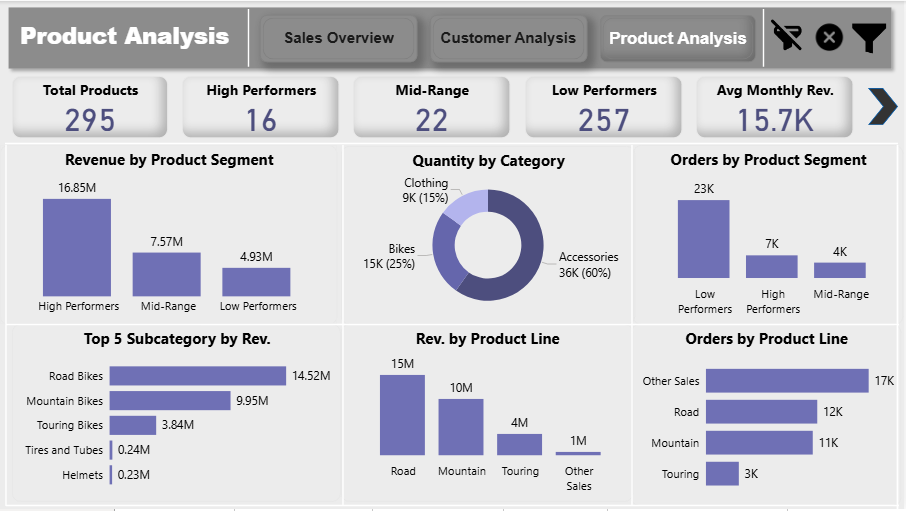

This screenshot's page, from the dashboard's own definition file:
{"tool":"powerbi","page":{"name":"Product Analysis","canvas":[1280,720],"ordinal":2},"visuals":[{"type":"shape","box":[2.8,0,1269.9,104.9],"z":0,"group":"g1"},{"type":"card","title":"Total Products","fields":{"Values":["All_Measures.Total Products"]},"box":[17,106.3,221.1,87.9],"z":0},{"type":"textbox","box":[18.4,21.3,316.1,66.6],"z":1000,"group":"g1"},{"type":"card","title":"High Performers","fields":{"Values":["All_Measures.High Performer Count"]},"box":[258.3,106.3,222.5,87.9],"z":1000},{"type":"actionButton","box":[609.4,19.8,222.5,66.6],"z":2000,"group":"g1"},{"type":"card","title":"Mid-Range","fields":{"Values":["All_Measures.Mid Range Count"]},"box":[501,106.3,222.5,87.9],"z":2000},{"type":"actionButton","box":[850.4,19.8,221.1,66.6],"z":3000,"group":"g1"},{"type":"card","title":"Low Performers","fields":{"Values":["All_Measures.Low Performers Count"]},"box":[743.7,106.3,222.5,87.9],"z":3000},{"type":"actionButton","box":[368.5,19.8,222.5,66.6],"z":4000,"group":"g1"},{"type":"card","title":"Avg Monthly Rev.","fields":{"Values":["All_Measures.Avg Monthly Revenue"]},"box":[986.5,106.3,222.5,87.9],"z":4000},{"type":"shape","box":[334.5,11.3,35.4,82.2],"z":5000,"group":"g1"},{"type":"columnChart","title":"Revenue by Product Segment","fields":{"Y":["All_Measures.Total Sales"],"Category":["Gold dim_products.product segment"]},"box":[0,203.9,477.8,254.5],"z":5000},{"type":"image","box":[1074.3,17,79.4,62.4],"z":6000,"group":"g1"},{"type":"donutChart","title":"Quantity by Category","fields":{"Category":["Gold dim_products.category"],"Y":["All_Measures.Total Quantity"]},"box":[483.7,205.4,416.7,253],"z":6000},{"type":"image","box":[1201.9,24.1,59.5,58.1],"z":7000,"group":"g1"},{"type":"clusteredBarChart","title":"Top 5 Subcategory by Rev.","fields":{"Category":["Gold dim_products.subcategory"],"Y":["All_Measures.Total Sales"]},"box":[17,457.8,466.3,252.3],"z":7000},{"type":"shape","box":[1074.3,11.3,15.6,82.2],"z":8000,"group":"g1"},{"type":"columnChart","title":"Orders by Product Segment","fields":{"Category":["Gold dim_products.product segment"],"Y":["All_Measures.Total Orders"]},"box":[897.5,203.9,382.5,254.5],"z":8000},{"type":"image","box":[1149.4,21.3,52.4,60.9],"z":9000,"group":"g1"},{"type":"clusteredColumnChart","title":"Rev. by Product Line","fields":{"Category":["Gold dim_products.product_line"],"Y":["All_Measures.Total Sales"]},"box":[483,458,414,252],"z":9000},{"type":"barChart","title":"Orders by Product Line","fields":{"Y":["All_Measures.Total Orders"],"Category":["Gold dim_products.product_line"]},"box":[894.3,457.8,382.7,258],"z":10000},{"type":"shape","box":[1264.3,204.1,15.6,515.9],"z":11000},{"type":"shape","box":[1264.4,204.1,15.6,515.9],"z":12000},{"type":"shape","box":[0,204.1,17,511.7],"z":13000},{"type":"shape","box":[477.6,204.1,17,511.7],"z":14000},{"type":"shape","box":[891.5,204.1,8.5,511.7],"z":15000},{"type":"group","id":"g1","title":"Group 1","box":[2.8,0,1269.9,104.9],"z":19000},{"type":"shape","box":[7.1,197,1265.7,9.9],"z":20000},{"type":"shape","box":[8.5,453.5,1265.7,9.9],"z":21000},{"type":"shape","box":[8.5,710.1,1265.7,9.9],"z":22000},{"type":"shape","box":[1230.2,123.3,42.5,52.4],"z":23000}]}

Visuals, with their boxes in screenshot pixels (x1, y1, x2, y2), scaled from the page's 1280x720 canvas onto the 906x511 screenshot:
shape: (left=2, top=0, right=901, bottom=74)
"Total Products" card: (left=12, top=75, right=169, bottom=138)
textbox: (left=13, top=15, right=237, bottom=62)
"High Performers" card: (left=183, top=75, right=340, bottom=138)
actionButton: (left=431, top=14, right=589, bottom=61)
"Mid-Range" card: (left=355, top=75, right=512, bottom=138)
actionButton: (left=602, top=14, right=758, bottom=61)
"Low Performers" card: (left=526, top=75, right=684, bottom=138)
actionButton: (left=261, top=14, right=418, bottom=61)
"Avg Monthly Rev." card: (left=698, top=75, right=856, bottom=138)
shape: (left=237, top=8, right=262, bottom=66)
"Revenue by Product Segment" columnChart: (left=0, top=145, right=338, bottom=325)
image: (left=760, top=12, right=817, bottom=56)
"Quantity by Category" donutChart: (left=342, top=146, right=637, bottom=325)
image: (left=851, top=17, right=893, bottom=58)
"Top 5 Subcategory by Rev." clusteredBarChart: (left=12, top=325, right=342, bottom=504)
shape: (left=760, top=8, right=771, bottom=66)
"Orders by Product Segment" columnChart: (left=635, top=145, right=905, bottom=325)
image: (left=814, top=15, right=851, bottom=58)
"Rev. by Product Line" clusteredColumnChart: (left=342, top=325, right=635, bottom=504)
"Orders by Product Line" barChart: (left=633, top=325, right=904, bottom=508)
shape: (left=895, top=145, right=905, bottom=510)
shape: (left=895, top=145, right=905, bottom=510)
shape: (left=0, top=145, right=12, bottom=508)
shape: (left=338, top=145, right=350, bottom=508)
shape: (left=631, top=145, right=637, bottom=508)
"Group 1" group: (left=2, top=0, right=901, bottom=74)
shape: (left=5, top=140, right=901, bottom=147)
shape: (left=6, top=322, right=902, bottom=329)
shape: (left=6, top=504, right=902, bottom=510)
shape: (left=871, top=88, right=901, bottom=125)
